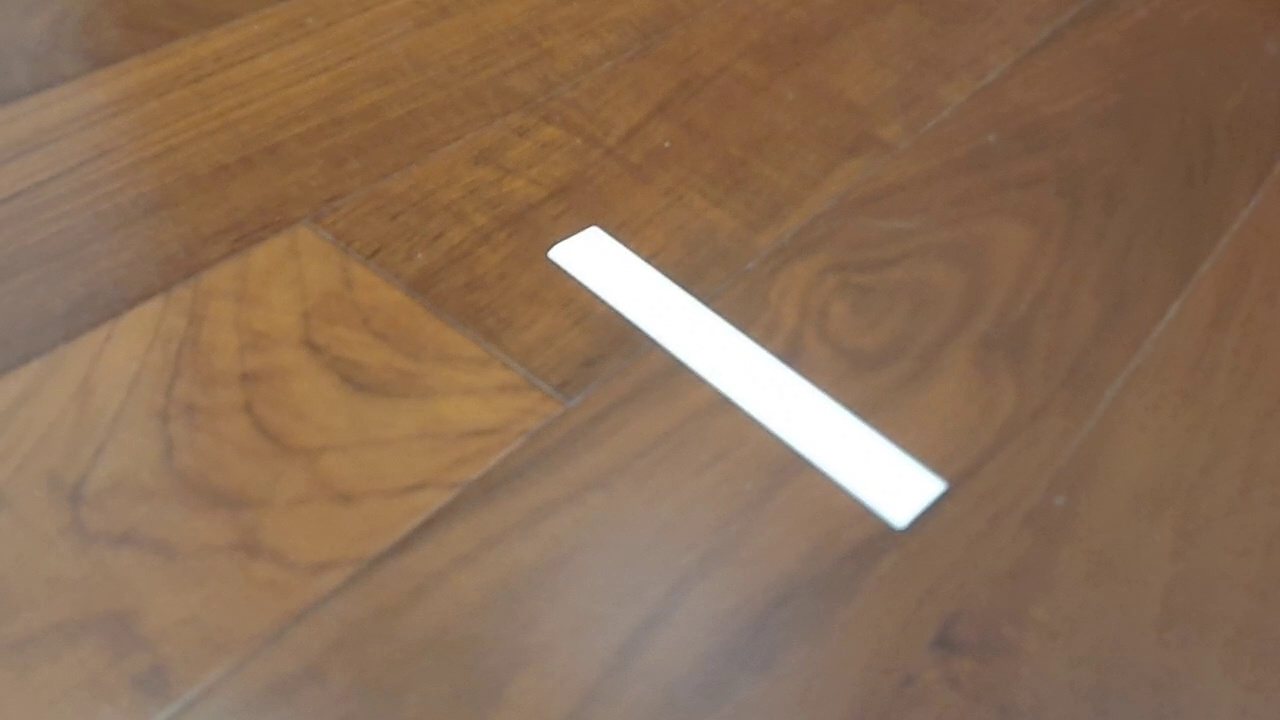ruler: (545, 223, 952, 533)
